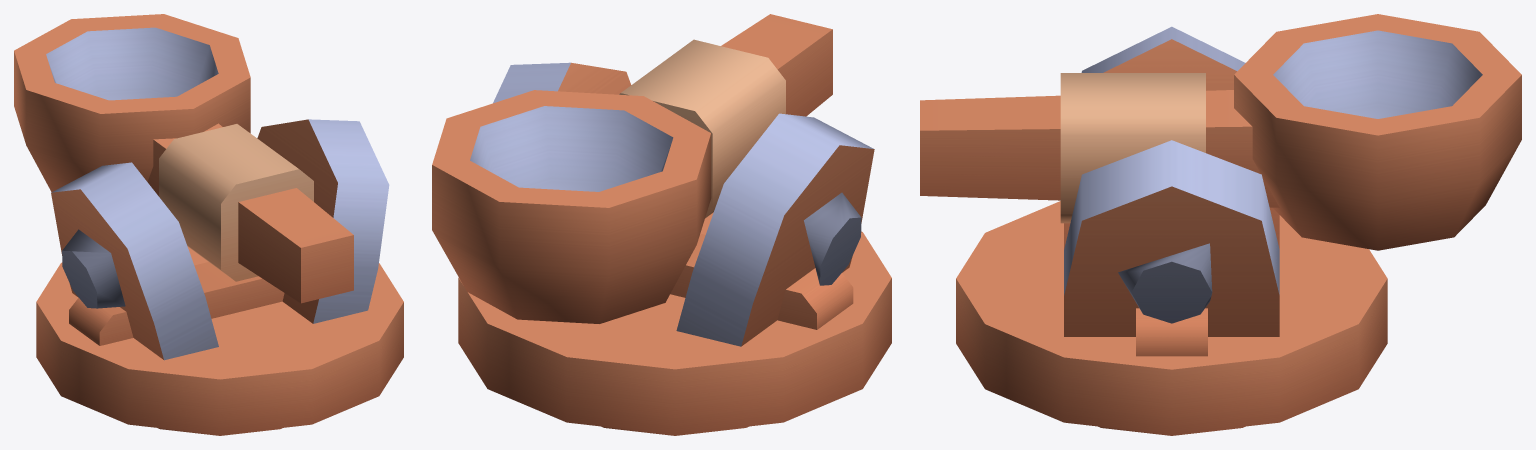
File: cc0-weapon-catapult-lod1.glb
The picture shows the model from 3 angles, left to right: view 1: azimuth 30°, elevation 25°; view 2: azimuth 150°, elevation 25°; view 3: azimuth 270°, elevation 25°; orthographic projection. The views are drawn at different scales.
Parts seen in each view (by area): view 1: part_0; view 2: part_0; view 3: part_0.
Part boxes in pixels (left/top/right/bottom): part_0: left=14, top=14, right=403, bottom=435; part_0: left=432, top=14, right=891, bottom=435; part_0: left=920, top=14, right=1521, bottom=435.
Size of the model in its own units: 0.6 by 0.4625 by 0.8366.
1 material, 1 textured.
